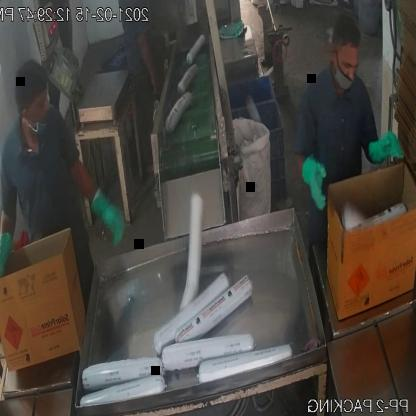glove: (82, 179, 129, 258), (356, 125, 406, 176), (293, 146, 331, 213), (0, 218, 17, 297)
no_glove: (136, 21, 169, 104)
